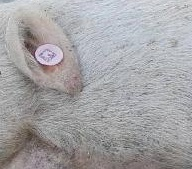text: (31, 36, 73, 73)
